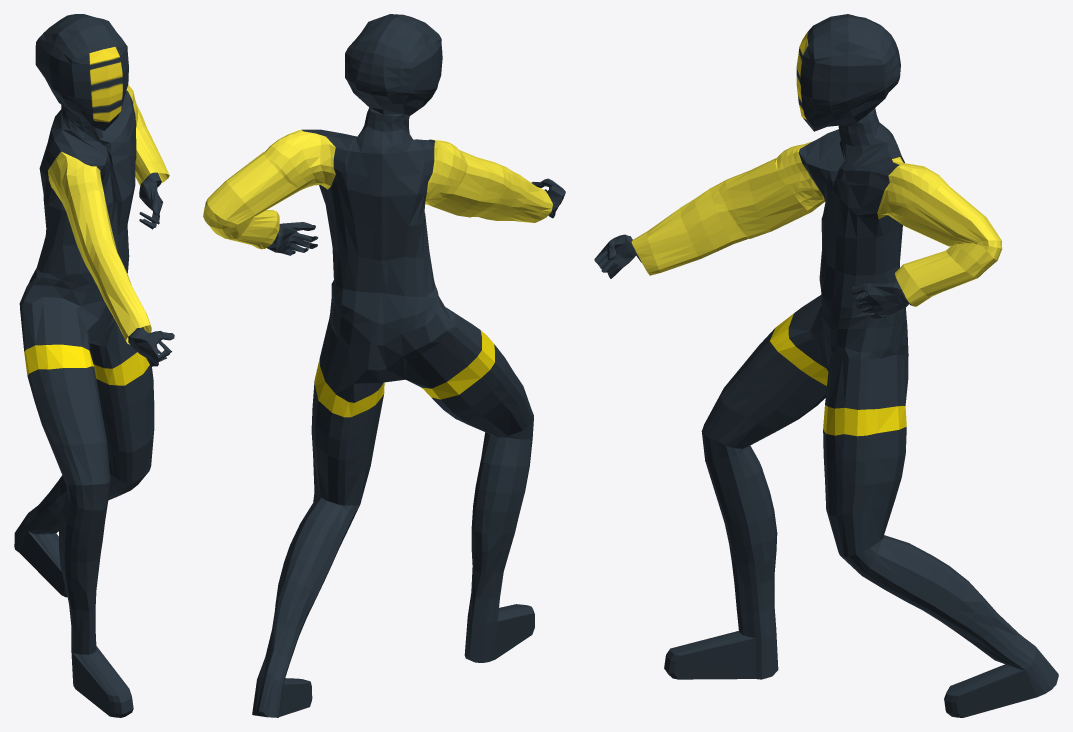
Rendered from Sentry_WB_000025.obj.
The picture shows the model from 3 angles, left to right: view 1: azimuth 30°, elevation 25°; view 2: azimuth 150°, elevation 25°; view 3: azimuth 270°, elevation 25°; orthographic projection. The views are drawn at different scales.
Visible parts, largest first — view 1: Cube; view 2: Cube; view 3: Cube.
Boxes of the visible parts, <box> form: Cube: <box>14,14,174,717</box>; Cube: <box>203,14,565,717</box>; Cube: <box>594,14,1058,717</box>.
Bounding box in the file's own units: 1.17 × 3.65 × 2.26.
